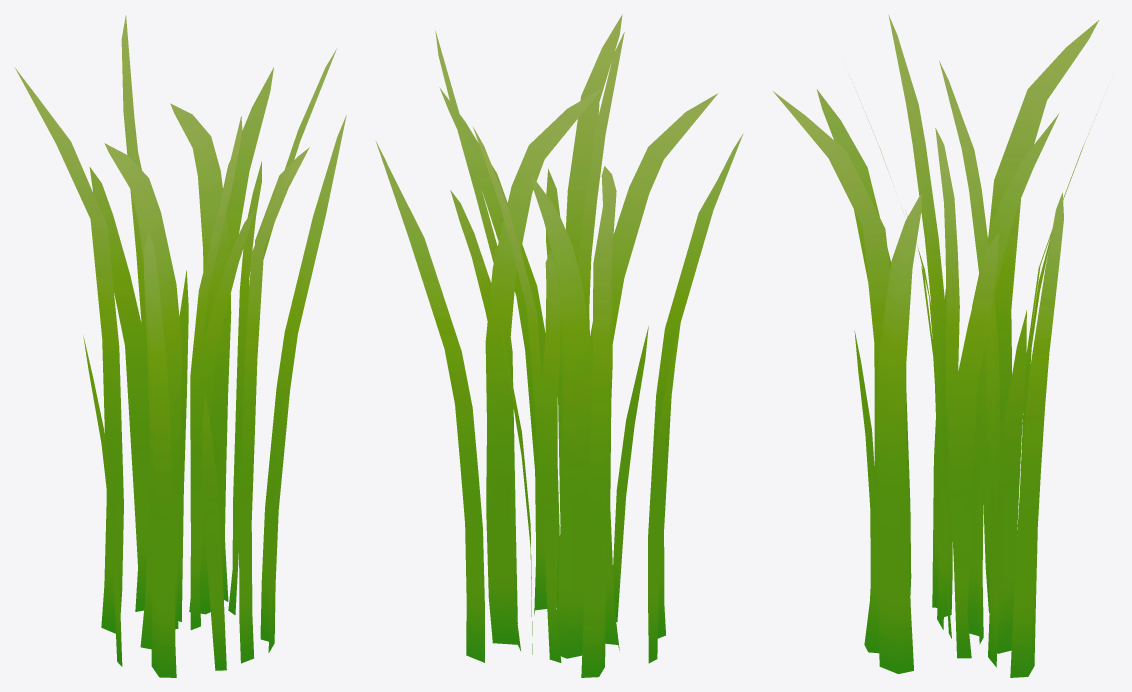
The model's file is grass_common_tall.gltf.
3 views of the same model, side by side, from view 1: azimuth 30°, elevation 25°; view 2: azimuth 150°, elevation 25°; view 3: azimuth 270°, elevation 25° (orthographic). The views are drawn at different scales.
Visible parts, largest first — view 1: grass_common_tall; view 2: grass_common_tall; view 3: grass_common_tall.
Boxes of the visible parts, bbox=[...] form: grass_common_tall: bbox=[15, 15, 346, 677]; grass_common_tall: bbox=[375, 14, 743, 677]; grass_common_tall: bbox=[773, 15, 1101, 677].
Size of the model in its own units: 0.8951 by 1.87 by 0.9931.
1 material, 1 textured.
